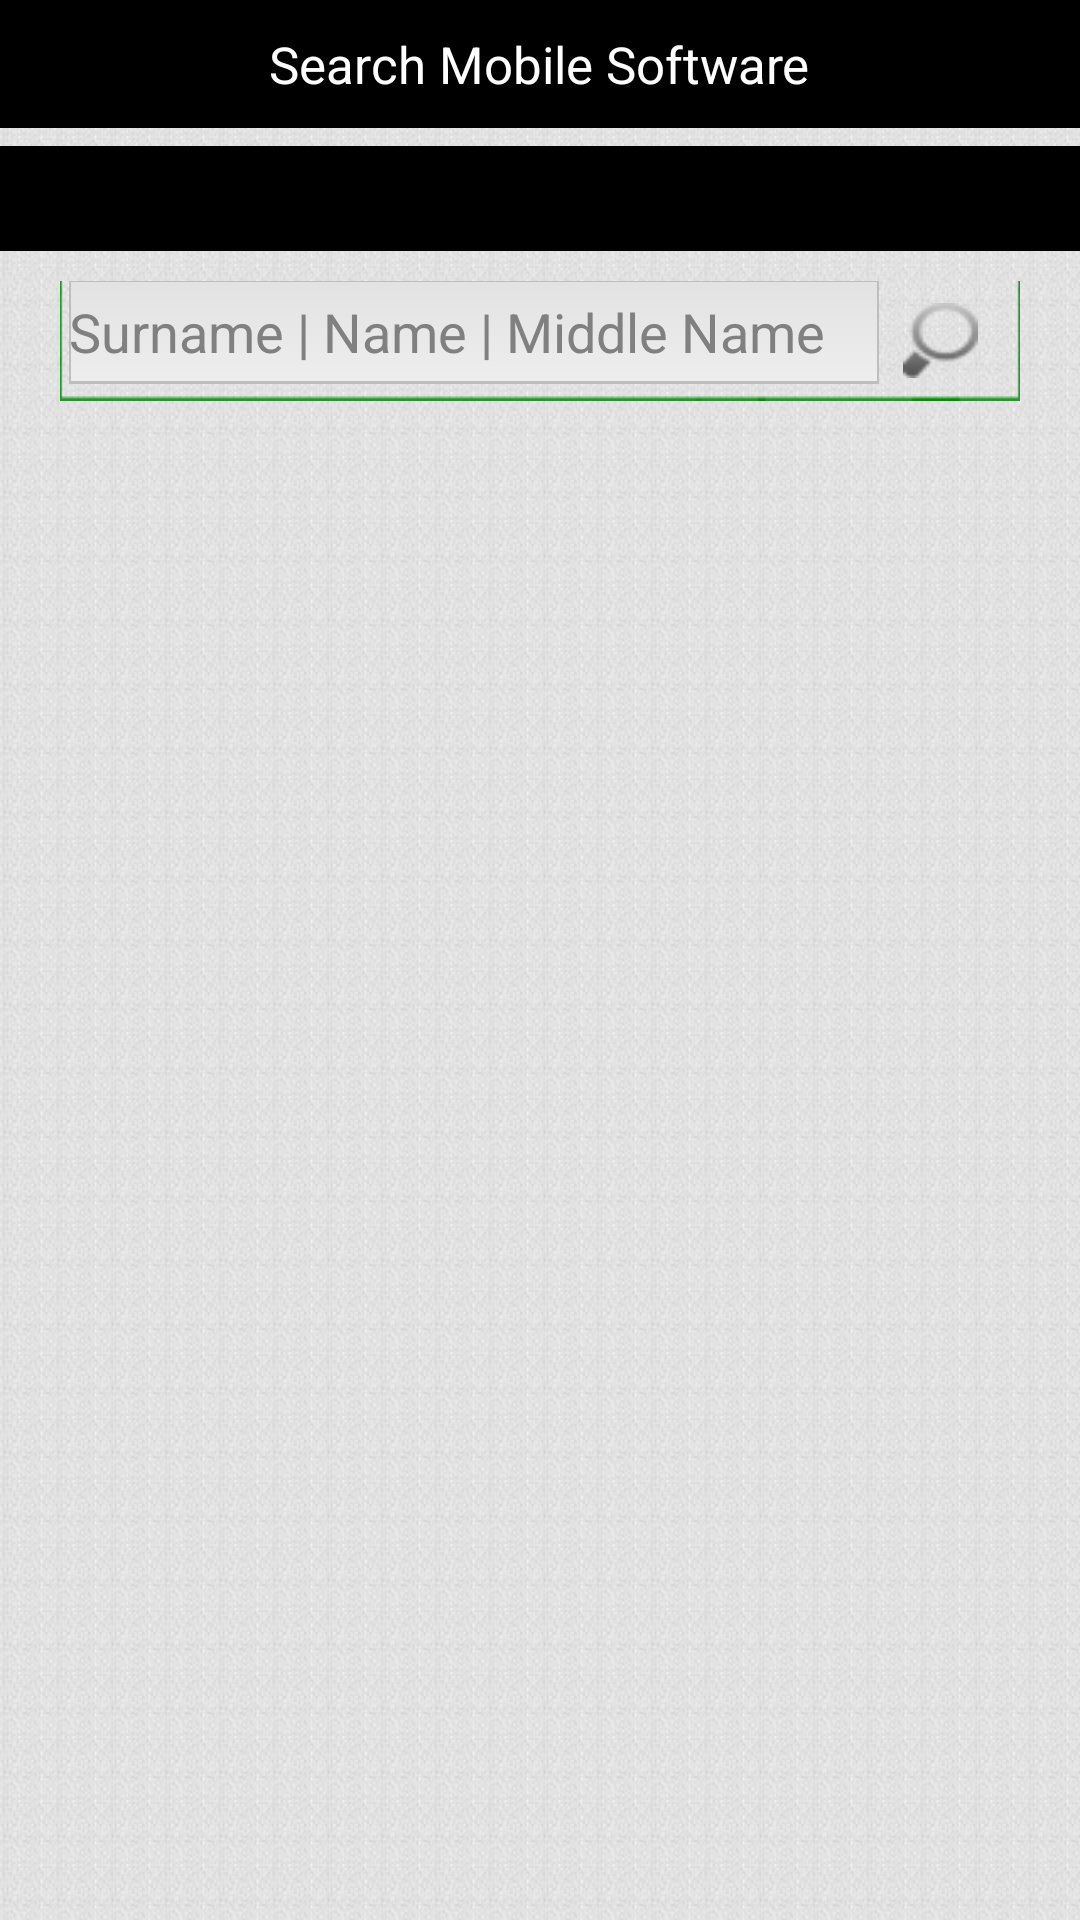

Screen size 1080px×1920px. Icon name, then its center in pixels as (x,y):
search: (940,340)
